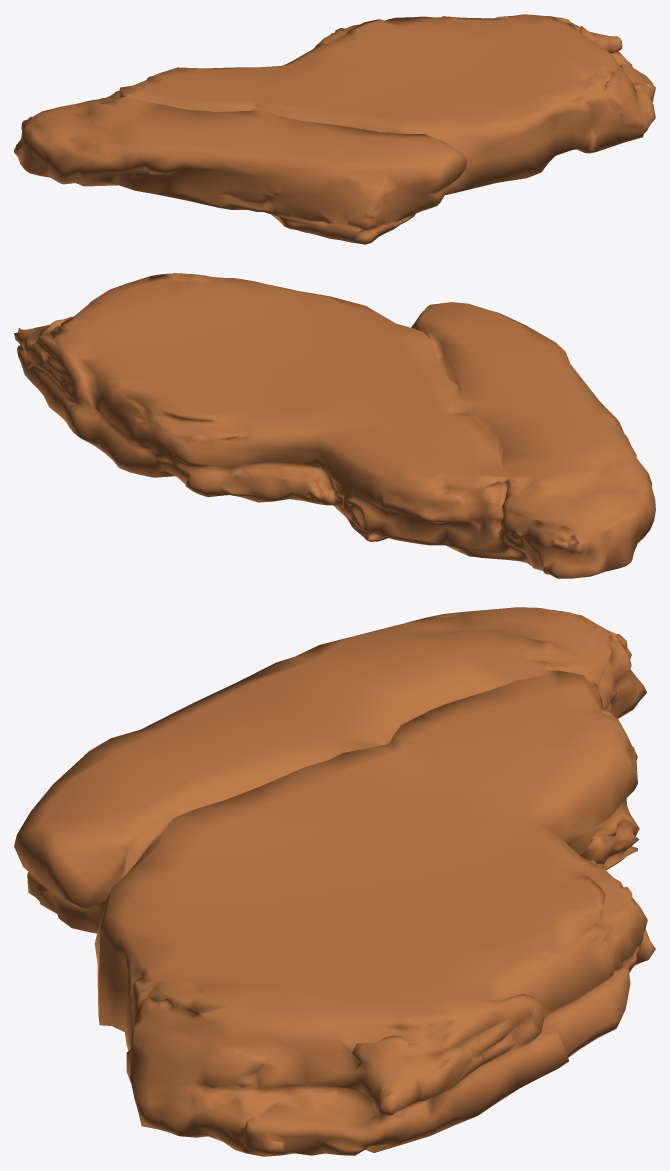
File: MSH_Rocks_Boulder_35.FBX
3 renders of one model, top to bottom at view 1: azimuth 30°, elevation 25°; view 2: azimuth 150°, elevation 25°; view 3: azimuth 270°, elevation 25°, orthographic. The views are drawn at different scales.
Parts seen in each view (by area): view 1: MESH_LOD0; view 2: MESH_LOD0; view 3: MESH_LOD0.
Part boxes in pixels (x1,y1,x2,y2): MESH_LOD0: [14, 14, 655, 244]; MESH_LOD0: [14, 273, 655, 578]; MESH_LOD0: [14, 607, 655, 1156].
Size of what is drawn, in the model's own units: 367 by 44.33 by 205.
